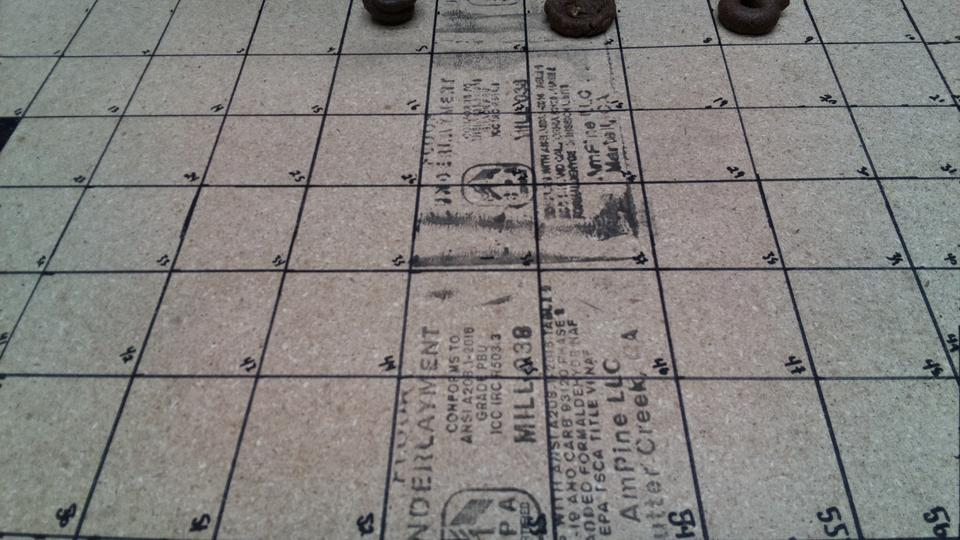poop: (537, 1, 617, 40), (713, 1, 792, 38), (358, 1, 423, 28)
